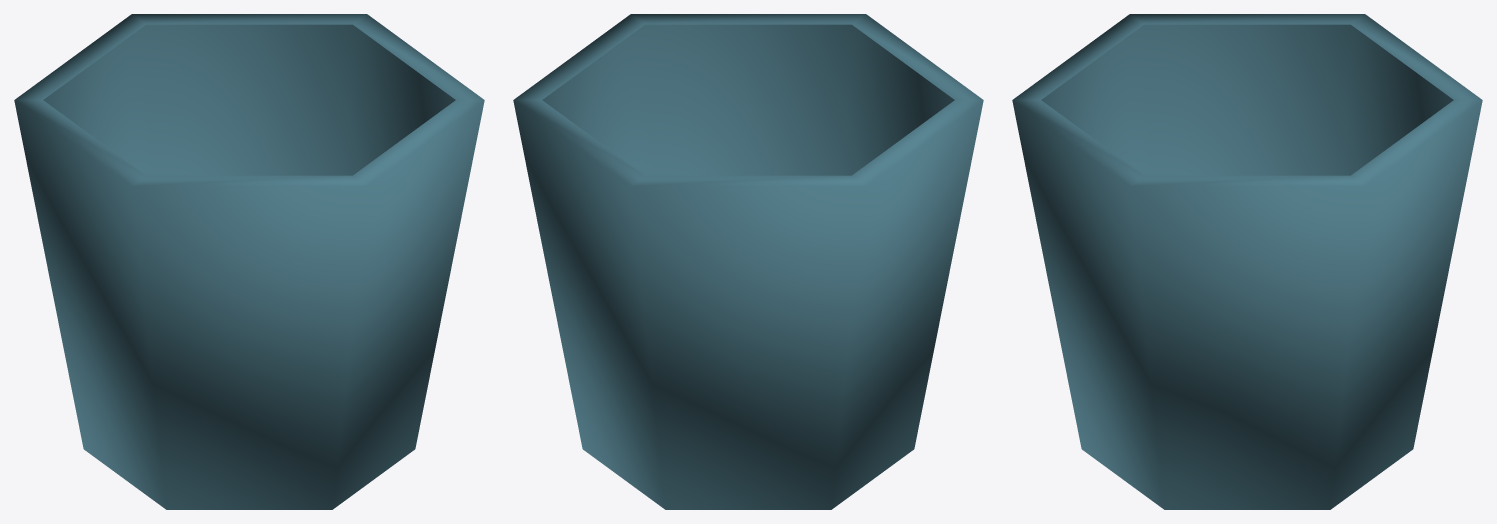
File: bathroom_item_006.glb
The picture shows the model from 3 angles, left to right: view 1: azimuth 30°, elevation 25°; view 2: azimuth 150°, elevation 25°; view 3: azimuth 270°, elevation 25°; orthographic projection.
Parts seen in each view (by area): view 1: bathroom_item_006; view 2: bathroom_item_006; view 3: bathroom_item_006.
Part boxes in pixels (bbox=[...]): bathroom_item_006: bbox=[14, 14, 484, 509]; bathroom_item_006: bbox=[513, 14, 983, 509]; bathroom_item_006: bbox=[1012, 14, 1482, 509].
Bounding box in the file's own units: 0.1907 × 0.1803 × 0.2202.
Materials: 1 (1 with a texture image).
